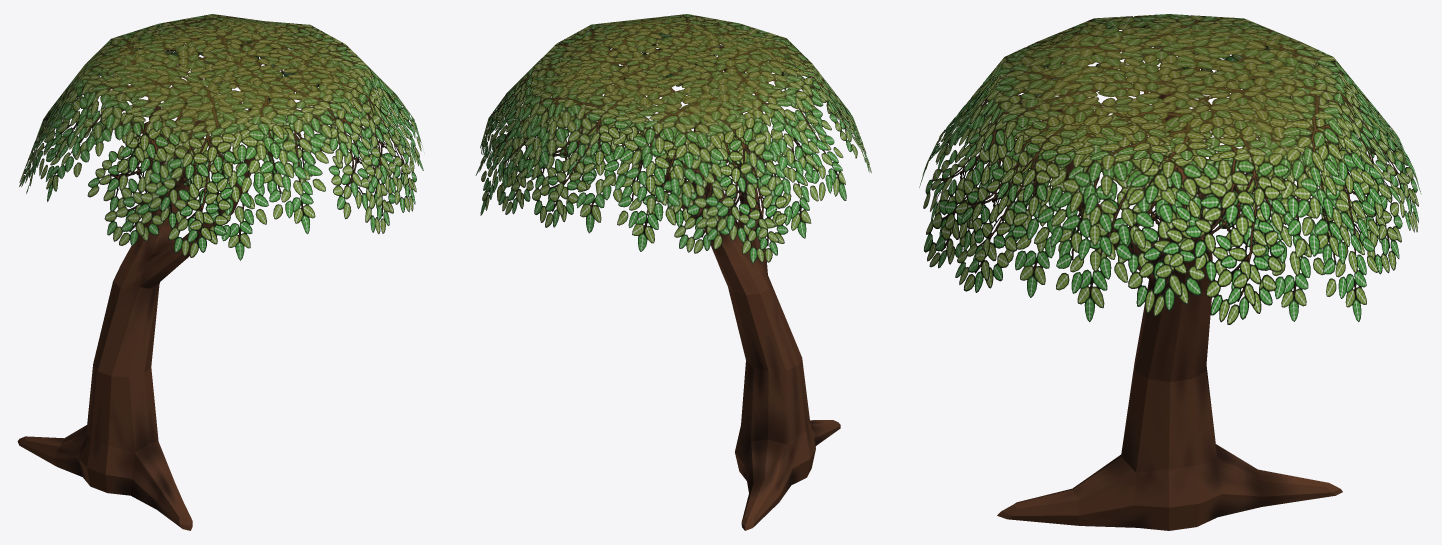
The model's file is arbol_plat 1.fbx.
3 renders of one model, left to right at view 1: azimuth 30°, elevation 25°; view 2: azimuth 150°, elevation 25°; view 3: azimuth 270°, elevation 25°, orthographic. The views are drawn at different scales.
Visible parts, largest first — view 1: pPlane17, tronco_plat_Group2; view 2: pPlane17, tronco_plat_Group2; view 3: pPlane17, tronco_plat_Group2.
Boxes of the visible parts, left/top/right/bottom form: pPlane17: left=19, top=14, right=423, bottom=260; tronco_plat_Group2: left=17, top=65, right=251, bottom=530; pPlane17: left=475, top=14, right=871, bottom=263; tronco_plat_Group2: left=666, top=46, right=840, bottom=530; pPlane17: left=919, top=14, right=1421, bottom=324; tronco_plat_Group2: left=997, top=93, right=1342, bottom=530.
Size of the model in its own units: 11.17 by 11.65 by 10.85.
Materials: 2 (2 with a texture image).
